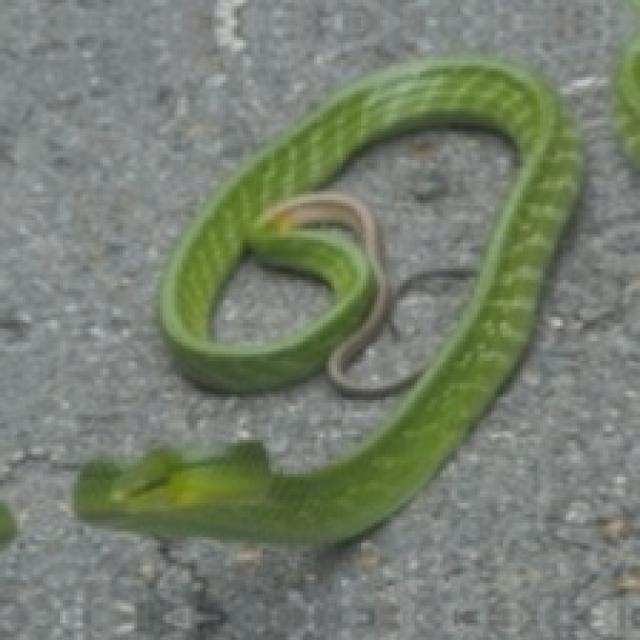red-tailed green ratsnake: (74, 57, 580, 543), (75, 61, 584, 544), (209, 249, 351, 343)
